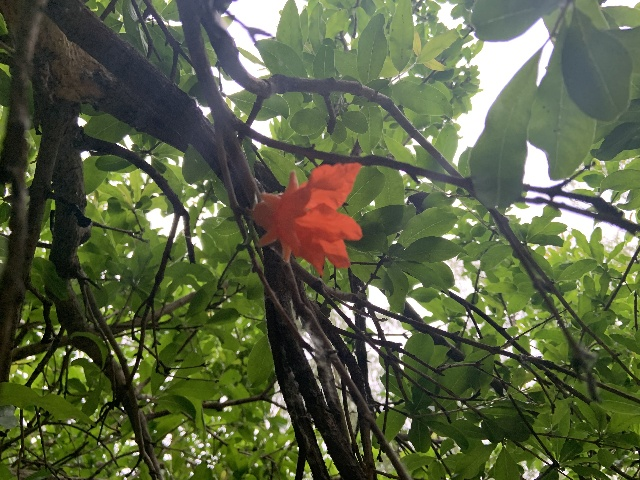flower: (250, 162, 363, 277)
